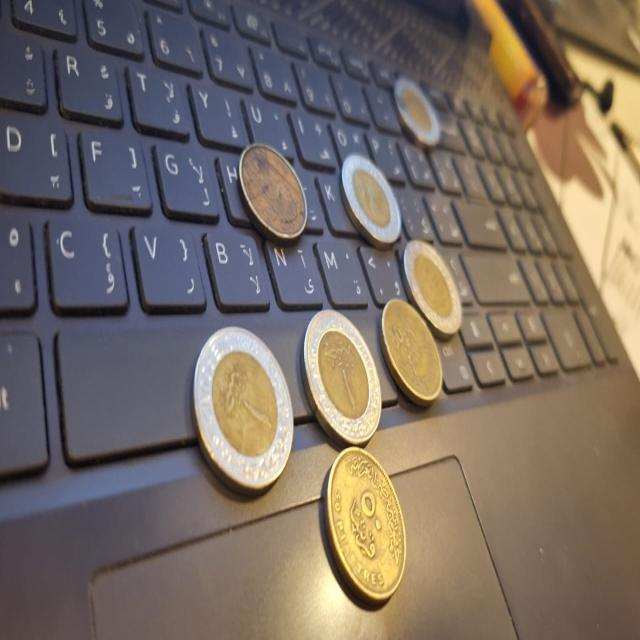Half Pound: (320, 441, 412, 606), (377, 290, 448, 411), (238, 139, 312, 248)
One Pound: (188, 321, 295, 495), (301, 305, 388, 450), (338, 147, 403, 250), (406, 242, 463, 338), (389, 74, 442, 153)
